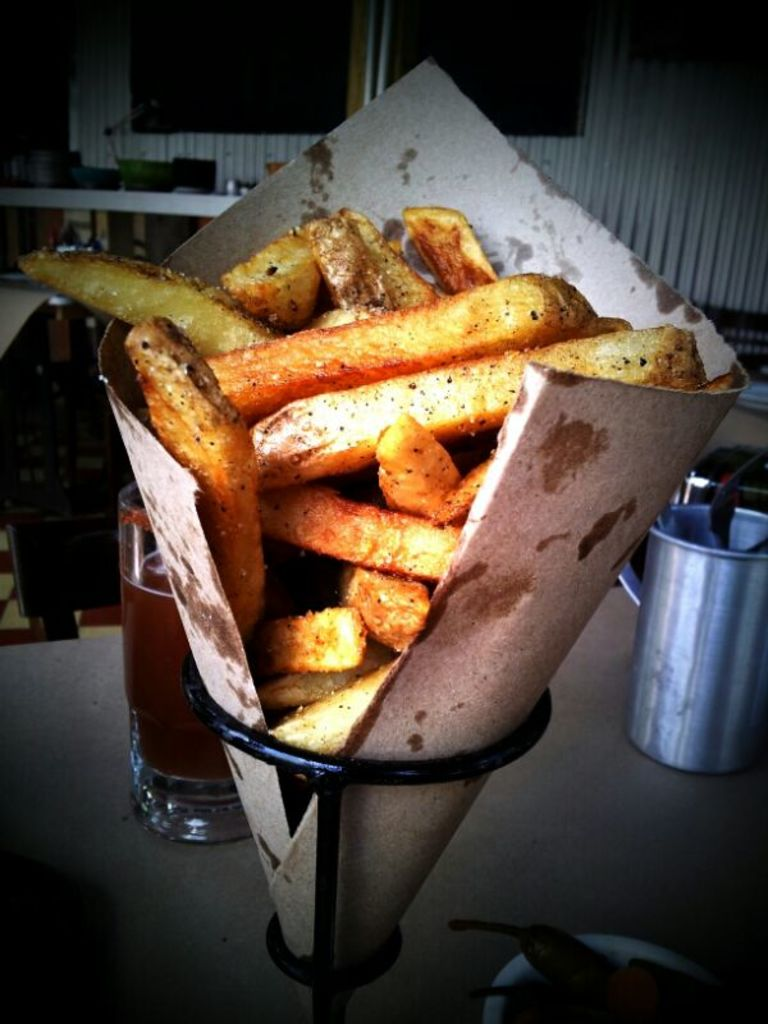French fries: (108, 162, 732, 793)
